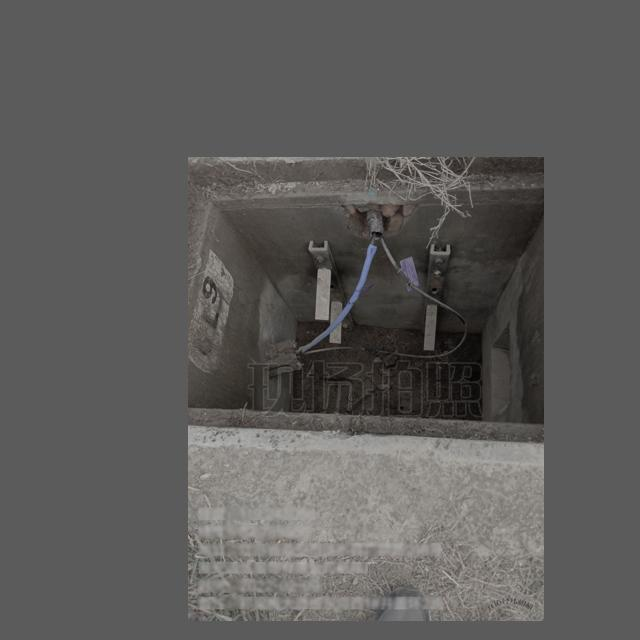lose: (189, 172, 544, 443)
